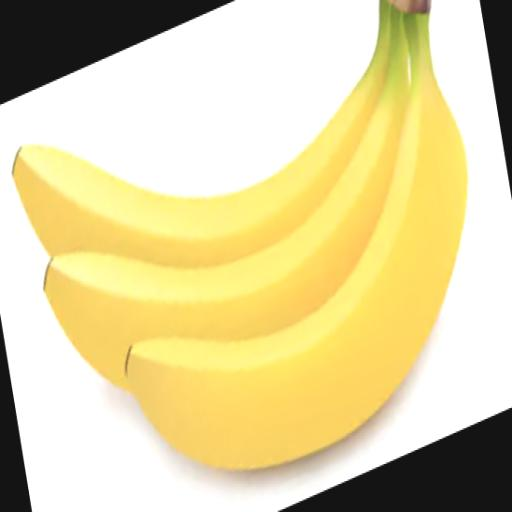banana-ripe: (9, 17, 488, 471)
